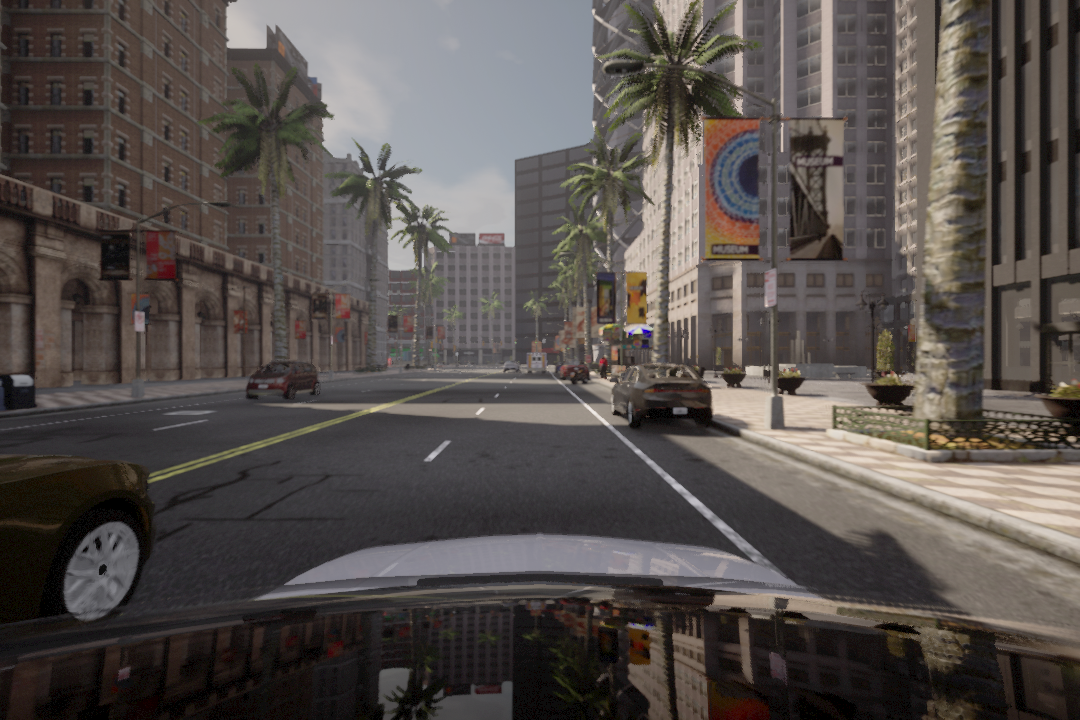TrafficSign: (133, 311, 146, 334)
